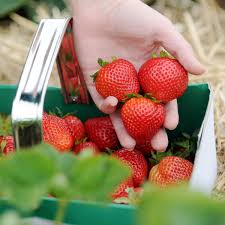ripe: (138, 53, 188, 104), (119, 94, 167, 146), (146, 154, 197, 197), (94, 59, 138, 103), (33, 112, 72, 155), (110, 146, 151, 183), (107, 169, 143, 207), (85, 117, 117, 154), (60, 109, 87, 147)
